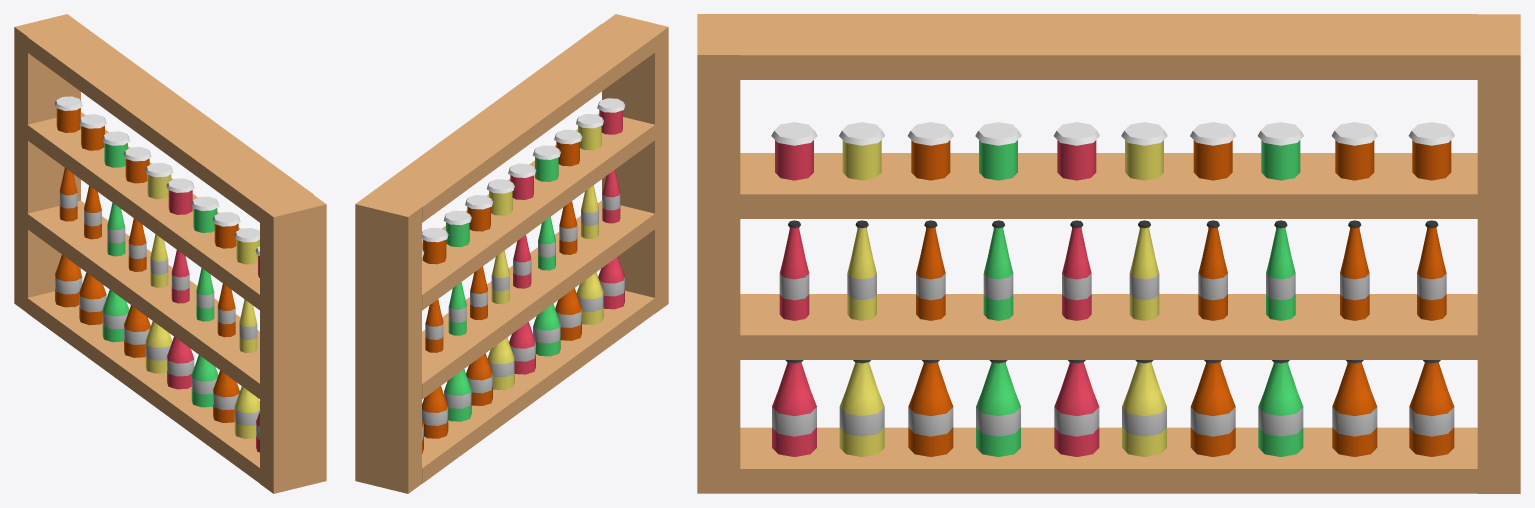
The model's file is environment.fbx.
3 views of the same model, side by side, from view 1: azimuth 30°, elevation 25°; view 2: azimuth 150°, elevation 25°; view 3: azimuth 270°, elevation 25° (orthographic). The views are drawn at different scales.
Parts seen in each view (by area): view 1: Cube, Cube.005, Cube.010, Cube.009, Cube.006, Cube.007, Cube.003, Cube.004, Cube.008, Cube.002, Cube.025, Cube.030 (+16 smaller); view 2: Cube, Cube.004, Cube.009, Cube.008, Cube.002, Cube.006, Cube.001, Cube.005, Cube.003, Cube.007, Cube.024, Cube.029 (+16 smaller); view 3: Cube, Cube.003, Cube.008, Cube.007, Cube.009, Cube.010, Cube.002, Cube.005, Cube.004, Cube.001, Cube.006, Cube.014 (+19 smaller).
Boxes of the visible parts, <box> form: Cube: <box>14,14,326,493</box>; Cube.005: <box>167,337,194,389</box>; Cube.010: <box>55,255,82,307</box>; Cube.009: <box>79,272,106,325</box>; Cube.006: <box>145,321,172,373</box>; Cube.007: <box>124,305,150,357</box>; Cube.003: <box>213,370,239,422</box>; Cube.004: <box>191,355,218,407</box>; Cube.008: <box>102,290,129,342</box>; Cube.002: <box>234,386,259,438</box>; Cube.025: <box>166,178,194,214</box>; Cube.030: <box>54,96,82,132</box>; Cube: <box>355,14,668,493</box>; Cube.004: <box>533,303,560,356</box>; Cube.009: <box>422,386,448,438</box>; Cube.008: <box>444,369,471,421</box>; Cube.002: <box>576,272,603,324</box>; Cube.006: <box>487,337,514,390</box>; Cube.001: <box>598,256,624,309</box>; Cube.005: <box>509,322,535,374</box>; Cube.003: <box>555,288,581,340</box>; Cube.007: <box>466,353,492,405</box>; Cube.024: <box>532,145,560,181</box>; Cube.029: <box>422,227,448,264</box>; Cube: <box>697,14,1520,493</box>; Cube.003: <box>908,360,953,456</box>; Cube.008: <box>1258,360,1303,456</box>; Cube.007: <box>1190,360,1235,456</box>; Cube.009: <box>1332,360,1377,456</box>; Cube.010: <box>1409,360,1454,456</box>; Cube.002: <box>839,360,884,456</box>; Cube.005: <box>1054,360,1099,456</box>; Cube.004: <box>976,360,1020,456</box>; Cube.001: <box>772,360,816,456</box>; Cube.006: <box>1122,360,1166,456</box>; Cube.014: <box>983,220,1013,320</box>.
Size of the model in its own units: 129 by 637 by 1084.
